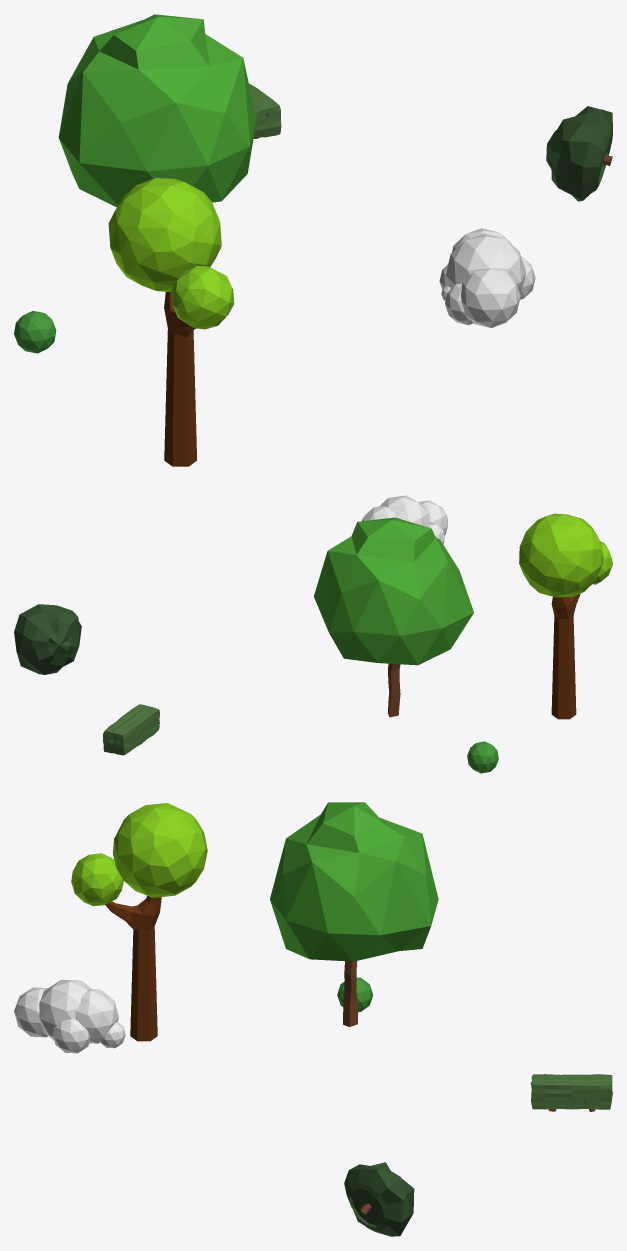
Rendered from roundbush1.fbx.
The picture shows the model from 3 angles, top to bottom: view 1: azimuth 30°, elevation 25°; view 2: azimuth 150°, elevation 25°; view 3: azimuth 270°, elevation 25°; orthographic projection. The views are drawn at different scales.
Visible parts, largest first — view 1: maple tree, Icosphere_Icosphere.002, bush, Cylinder.014, Icosphere.001_Icosphere.003, Icosphere.003, Icosphere.010, Icosphere.025, short hedge, Icosphere.002; view 2: maple tree, Icosphere_Icosphere.002, bush, Cylinder.014, short hedge, Icosphere.010, Icosphere.025, Icosphere.003; view 3: maple tree, Icosphere_Icosphere.002, Cylinder.014, bush, short hedge, Icosphere.001_Icosphere.003, Icosphere.010, Icosphere.007, Icosphere.003, Icosphere.006.
Part boxes in pixels (bbox=[...]): maple tree: bbox=[58, 14, 256, 207]; Icosphere_Icosphere.002: bbox=[108, 178, 221, 291]; bush: bbox=[546, 106, 612, 201]; Cylinder.014: bbox=[164, 292, 196, 466]; Icosphere.001_Icosphere.003: bbox=[171, 266, 234, 329]; Icosphere.003: bbox=[461, 268, 520, 328]; Icosphere.010: bbox=[445, 233, 526, 293]; Icosphere.025: bbox=[14, 311, 56, 353]; short hedge: bbox=[249, 83, 281, 138]; Icosphere.002: bbox=[445, 283, 473, 325]; maple tree: bbox=[314, 517, 473, 717]; Icosphere_Icosphere.002: bbox=[519, 513, 603, 597]; bush: bbox=[14, 604, 81, 674]; Cylinder.014: bbox=[551, 593, 580, 719]; short hedge: bbox=[103, 704, 159, 755]; Icosphere.010: bbox=[379, 495, 430, 527]; Icosphere.025: bbox=[467, 741, 498, 773]; Icosphere.003: bbox=[418, 500, 447, 534]; maple tree: bbox=[270, 802, 438, 1026]; Icosphere_Icosphere.002: bbox=[113, 803, 207, 897]; Cylinder.014: bbox=[105, 896, 161, 1041]; bush: bbox=[344, 1162, 414, 1236]; short hedge: bbox=[530, 1074, 612, 1111]; Icosphere.001_Icosphere.003: bbox=[71, 853, 123, 906]; Icosphere.010: bbox=[39, 979, 91, 1040]; Icosphere.007: bbox=[75, 989, 118, 1043]; Icosphere.003: bbox=[14, 987, 47, 1037]; Icosphere.006: bbox=[52, 1019, 89, 1053].
Size of the model in its own units: 2759 by 1358 by 2710.
